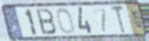1: (24, 8, 38, 37)
4: (78, 6, 93, 36)
7: (93, 7, 107, 33)
B: (35, 8, 58, 36)
O: (56, 7, 76, 35)
T: (109, 5, 127, 35)
